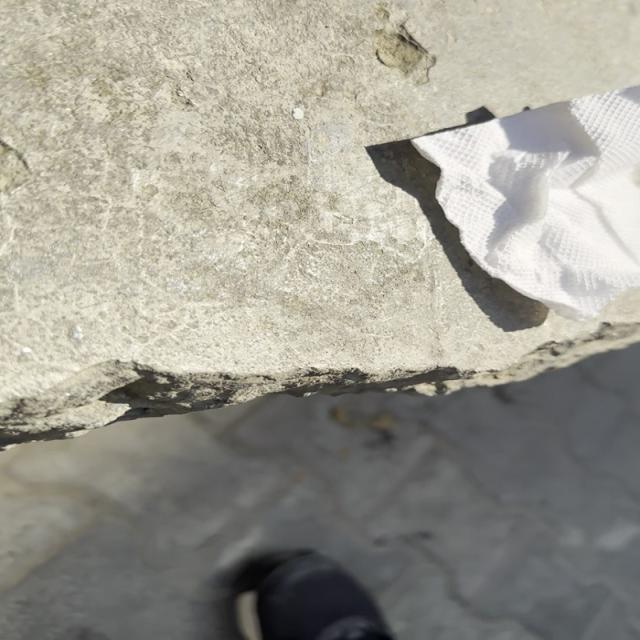tissue: (409, 78, 640, 321)
